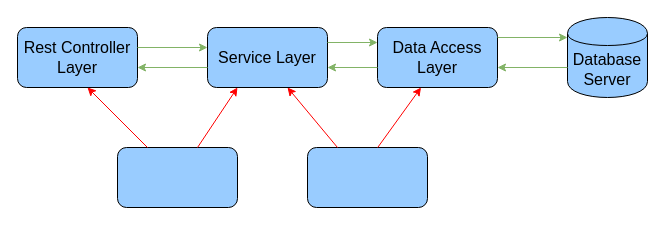
This 665x225 diagram has some shape labels left out. Here are the shapes that lost their labels. From the top down, the centre of each, then its label:
At [177,177]: "DTOs".
At [367,177]: "Model Entities".
